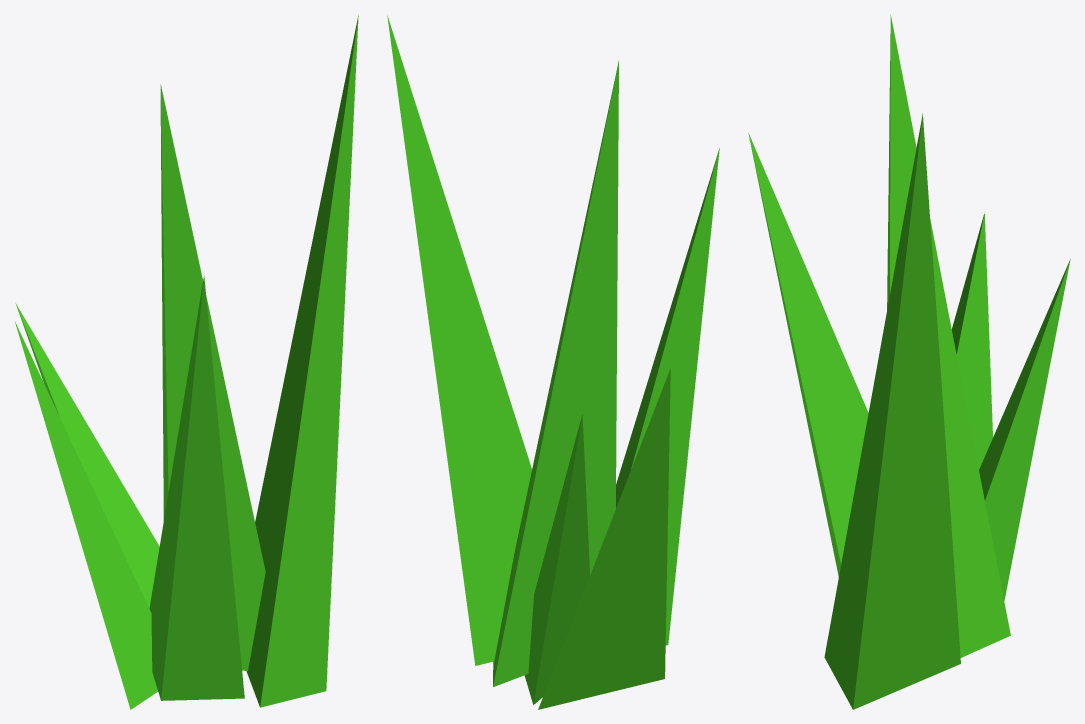
Rendered from grass.fbx.
3 views of the same model, side by side, from view 1: azimuth 30°, elevation 25°; view 2: azimuth 150°, elevation 25°; view 3: azimuth 270°, elevation 25° (orthographic).
Parts seen in each view (by area): view 1: Cone.003, Cone.002, Cone.001, Cone, Cone.004; view 2: Cone.003, Cone.001, Cone, Cone.002, Cone.004; view 3: Cone.003, Cone.001, Cone.002, Cone.004, Cone.
Boxes of the visible parts, x1,y1,x2,y2 form: Cone.003: (246,15,358,707); Cone.002: (149,275,244,700); Cone.001: (160,84,265,670); Cone: (15,322,157,709); Cone.004: (15,303,159,608); Cone.003: (387,15,531,665); Cone.001: (493,60,618,687); Cone: (538,368,670,709); Cone.002: (616,148,719,645); Cone.004: (524,414,589,704); Cone.003: (824,113,960,709); Cone.001: (887,14,1010,657); Cone.002: (748,133,868,577); Cone.004: (979,259,1070,600); Cone: (951,213,992,469).
Bounding box in the file's own units: 429 × 832 × 387.
